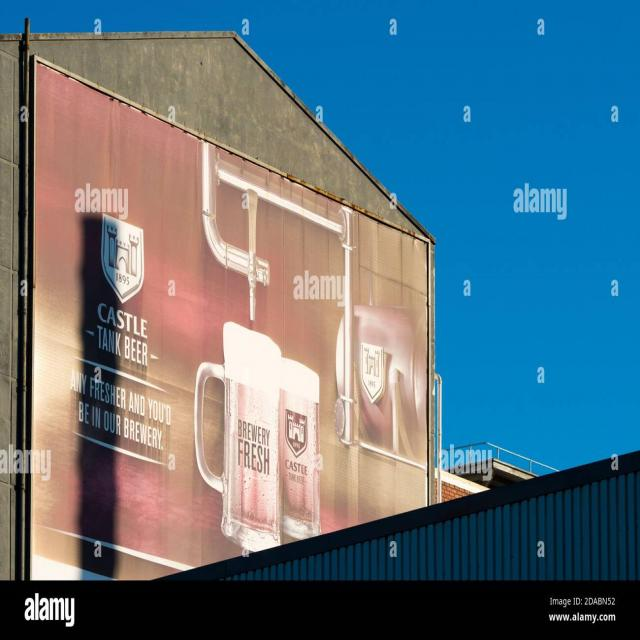Werbetafel frei: (15, 51, 449, 582)
